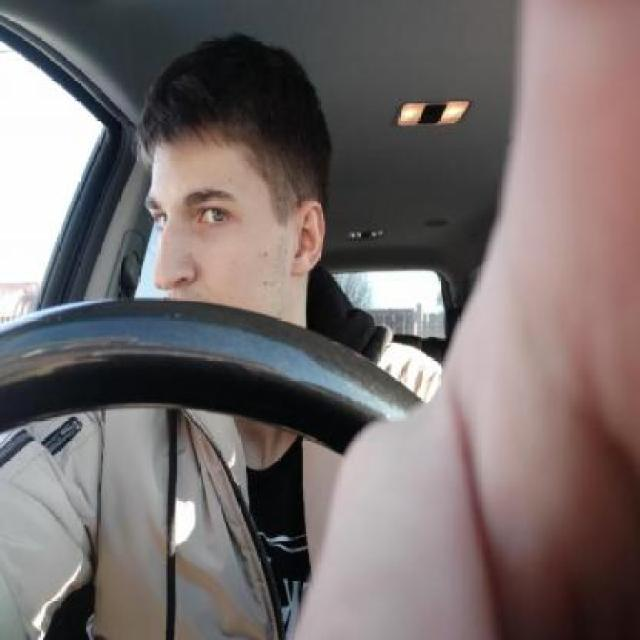awake: (197, 205, 234, 226), (156, 212, 169, 228)
